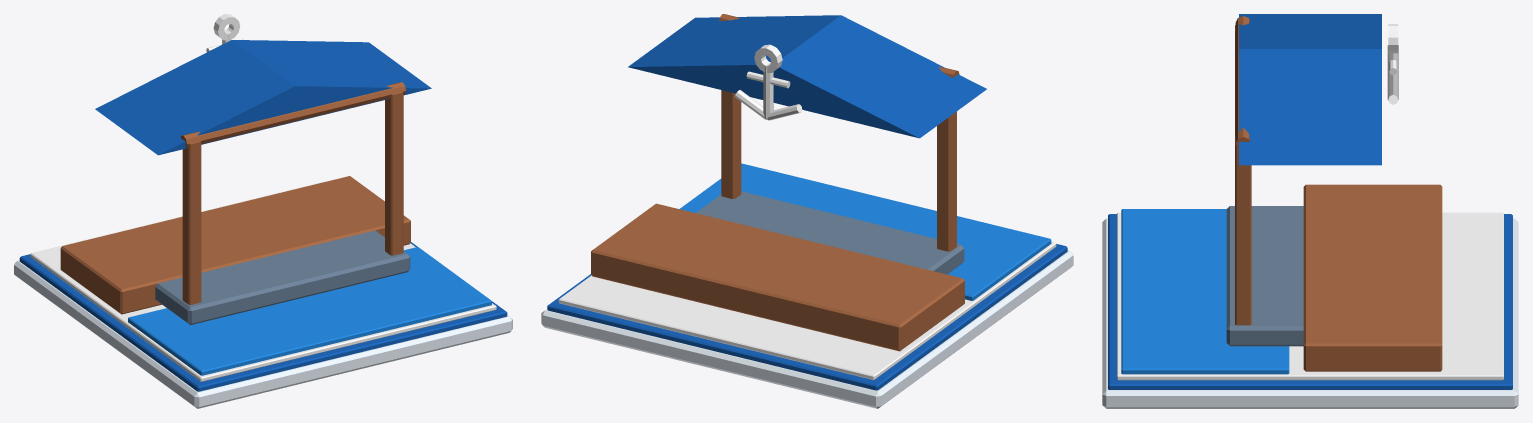
The model's file is Harbor_Stage3_v002.fbx.
3 views of the same model, side by side, from view 1: azimuth 30°, elevation 25°; view 2: azimuth 150°, elevation 25°; view 3: azimuth 270°, elevation 25° (orthographic). The views are drawn at different scales.
Parts seen in each view (by area): view 1: FixedShell; view 2: FixedShell; view 3: FixedShell.
Boxes of the visible parts, left/top/right/bottom form: FixedShell: left=14, top=14, right=512, bottom=408; FixedShell: left=541, top=14, right=1073, bottom=408; FixedShell: left=1102, top=14, right=1518, bottom=408.
Size of the model in its own units: 186 by 147 by 186.
